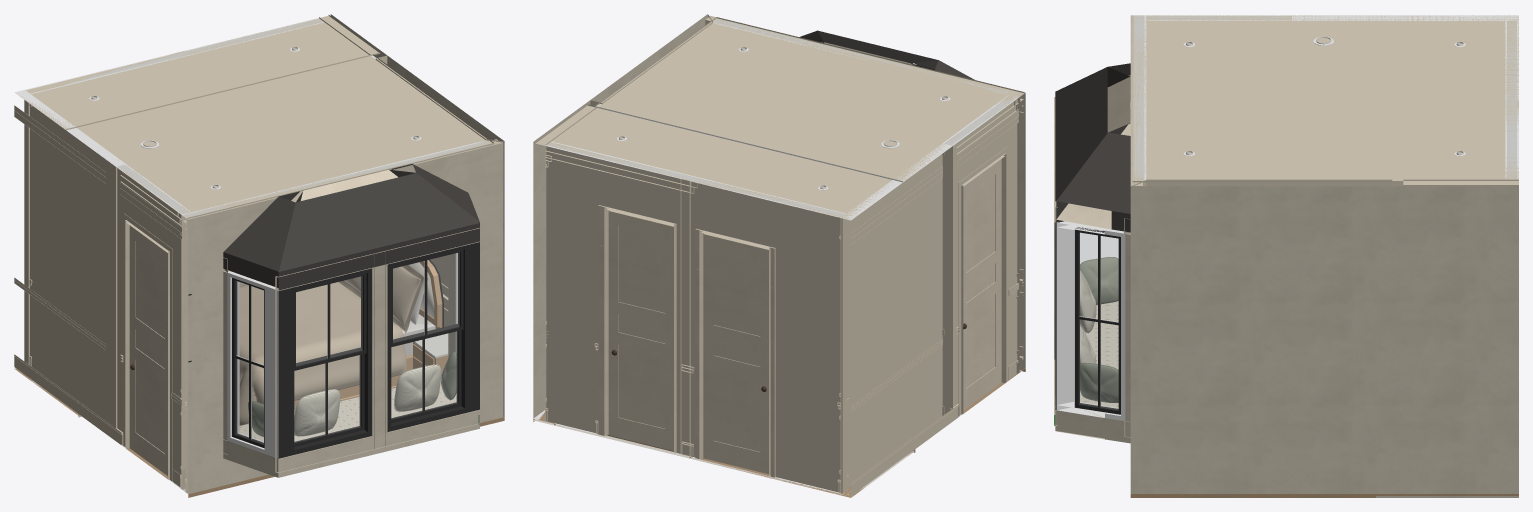
File: loli-bedroom-b217af814b93.glb
3 views of the same model, side by side, from view 1: azimuth 30°, elevation 25°; view 2: azimuth 150°, elevation 25°; view 3: azimuth 270°, elevation 25° (orthographic). The views are drawn at different scales.
Parts seen in each view (by area): view 1: loli-bedroom-dbd60ee5c3733ed6, loli-bedroom-93447d0fea18c81b, loli-bedroom-6a1144f4e43410bb, loli-bedroom-fd1c2425c72e98e4, loli-bedroom-daa4f3edc919433a, loli-bedroom-4cda501b4aaed82b, loli-bedroom-2575515a05775d9e, loli-bedroom-7cd33252cebb505d, loli-bedroom-527014f532f46c8e, loli-bedroom-cf6d22c5317ced0b, loli-bedroom-75b75731e5e739a5, loli-bedroom-68d06b361ac47823 (+22 smaller); view 2: loli-bedroom-0e637d2be41161fb, loli-bedroom-dbd60ee5c3733ed6, loli-bedroom-6a1144f4e43410bb, loli-bedroom-5b37b110dc0e2cdc, loli-bedroom-eceff908bd344cec, loli-bedroom-2575515a05775d9e, loli-bedroom-68d06b361ac47823, loli-bedroom-cf6d22c5317ced0b, loli-bedroom-319244b3406409d9, loli-bedroom-93447d0fea18c81b, loli-bedroom-d6b1bc8c737b28e2, loli-bedroom-8cbce1d8f2f8a576 (+14 smaller); view 3: loli-bedroom-592bd9af2ed71797, loli-bedroom-dbd60ee5c3733ed6, loli-bedroom-319244b3406409d9, loli-bedroom-2575515a05775d9e, loli-bedroom-53e6a9e479527da3, loli-bedroom-daa4f3edc919433a, loli-bedroom-131a246e00605616, loli-bedroom-d8b729a36612415b, loli-bedroom-93447d0fea18c81b, loli-bedroom-0e637d2be41161fb, loli-bedroom-ad11484878029c25, loli-bedroom-e0a3201bd49c7536 (+9 smaller).
Boxes of the visible parts, x1,y1,x2,y2 form: loli-bedroom-dbd60ee5c3733ed6: [77, 54, 494, 218]; loli-bedroom-93447d0fea18c81b: [181, 140, 502, 494]; loli-bedroom-6a1144f4e43410bb: [14, 90, 125, 428]; loli-bedroom-fd1c2425c72e98e4: [279, 268, 371, 458]; loli-bedroom-daa4f3edc919433a: [278, 169, 479, 290]; loli-bedroom-4cda501b4aaed82b: [388, 242, 479, 431]; loli-bedroom-2575515a05775d9e: [17, 15, 380, 130]; loli-bedroom-7cd33252cebb505d: [239, 282, 406, 425]; loli-bedroom-527014f532f46c8e: [227, 271, 278, 458]; loli-bedroom-cf6d22c5317ced0b: [129, 225, 167, 475]; loli-bedroom-75b75731e5e739a5: [277, 264, 478, 477]; loli-bedroom-68d06b361ac47823: [116, 164, 190, 487]; loli-bedroom-0e637d2be41161fb: [545, 141, 847, 493]; loli-bedroom-dbd60ee5c3733ed6: [595, 17, 1024, 182]; loli-bedroom-6a1144f4e43410bb: [842, 143, 952, 495]; loli-bedroom-5b37b110dc0e2cdc: [703, 233, 768, 474]; loli-bedroom-eceff908bd344cec: [608, 210, 673, 450]; loli-bedroom-2575515a05775d9e: [535, 104, 893, 220]; loli-bedroom-68d06b361ac47823: [942, 95, 1018, 420]; loli-bedroom-cf6d22c5317ced0b: [963, 159, 1001, 410]; loli-bedroom-319244b3406409d9: [533, 100, 600, 419]; loli-bedroom-93447d0fea18c81b: [709, 15, 1025, 372]; loli-bedroom-d6b1bc8c737b28e2: [695, 228, 775, 477]; loli-bedroom-8cbce1d8f2f8a576: [961, 153, 1006, 414]; loli-bedroom-592bd9af2ed71797: [1130, 179, 1392, 493]; loli-bedroom-dbd60ee5c3733ed6: [1132, 15, 1403, 182]; loli-bedroom-319244b3406409d9: [1392, 179, 1518, 493]; loli-bedroom-2575515a05775d9e: [1403, 15, 1518, 186]; loli-bedroom-53e6a9e479527da3: [1056, 221, 1125, 421]; loli-bedroom-daa4f3edc919433a: [1055, 67, 1130, 221]; loli-bedroom-131a246e00605616: [1056, 124, 1130, 232]; loli-bedroom-d8b729a36612415b: [1055, 234, 1130, 443]; loli-bedroom-93447d0fea18c81b: [1130, 15, 1146, 185]; loli-bedroom-0e637d2be41161fb: [1505, 20, 1518, 179]; loli-bedroom-ad11484878029c25: [1147, 177, 1391, 186]; loli-bedroom-e0a3201bd49c7536: [1080, 301, 1118, 407].
Size of the model in its own units: 3.62 by 3.05 by 4.12.
39 materials, 8 textured.
